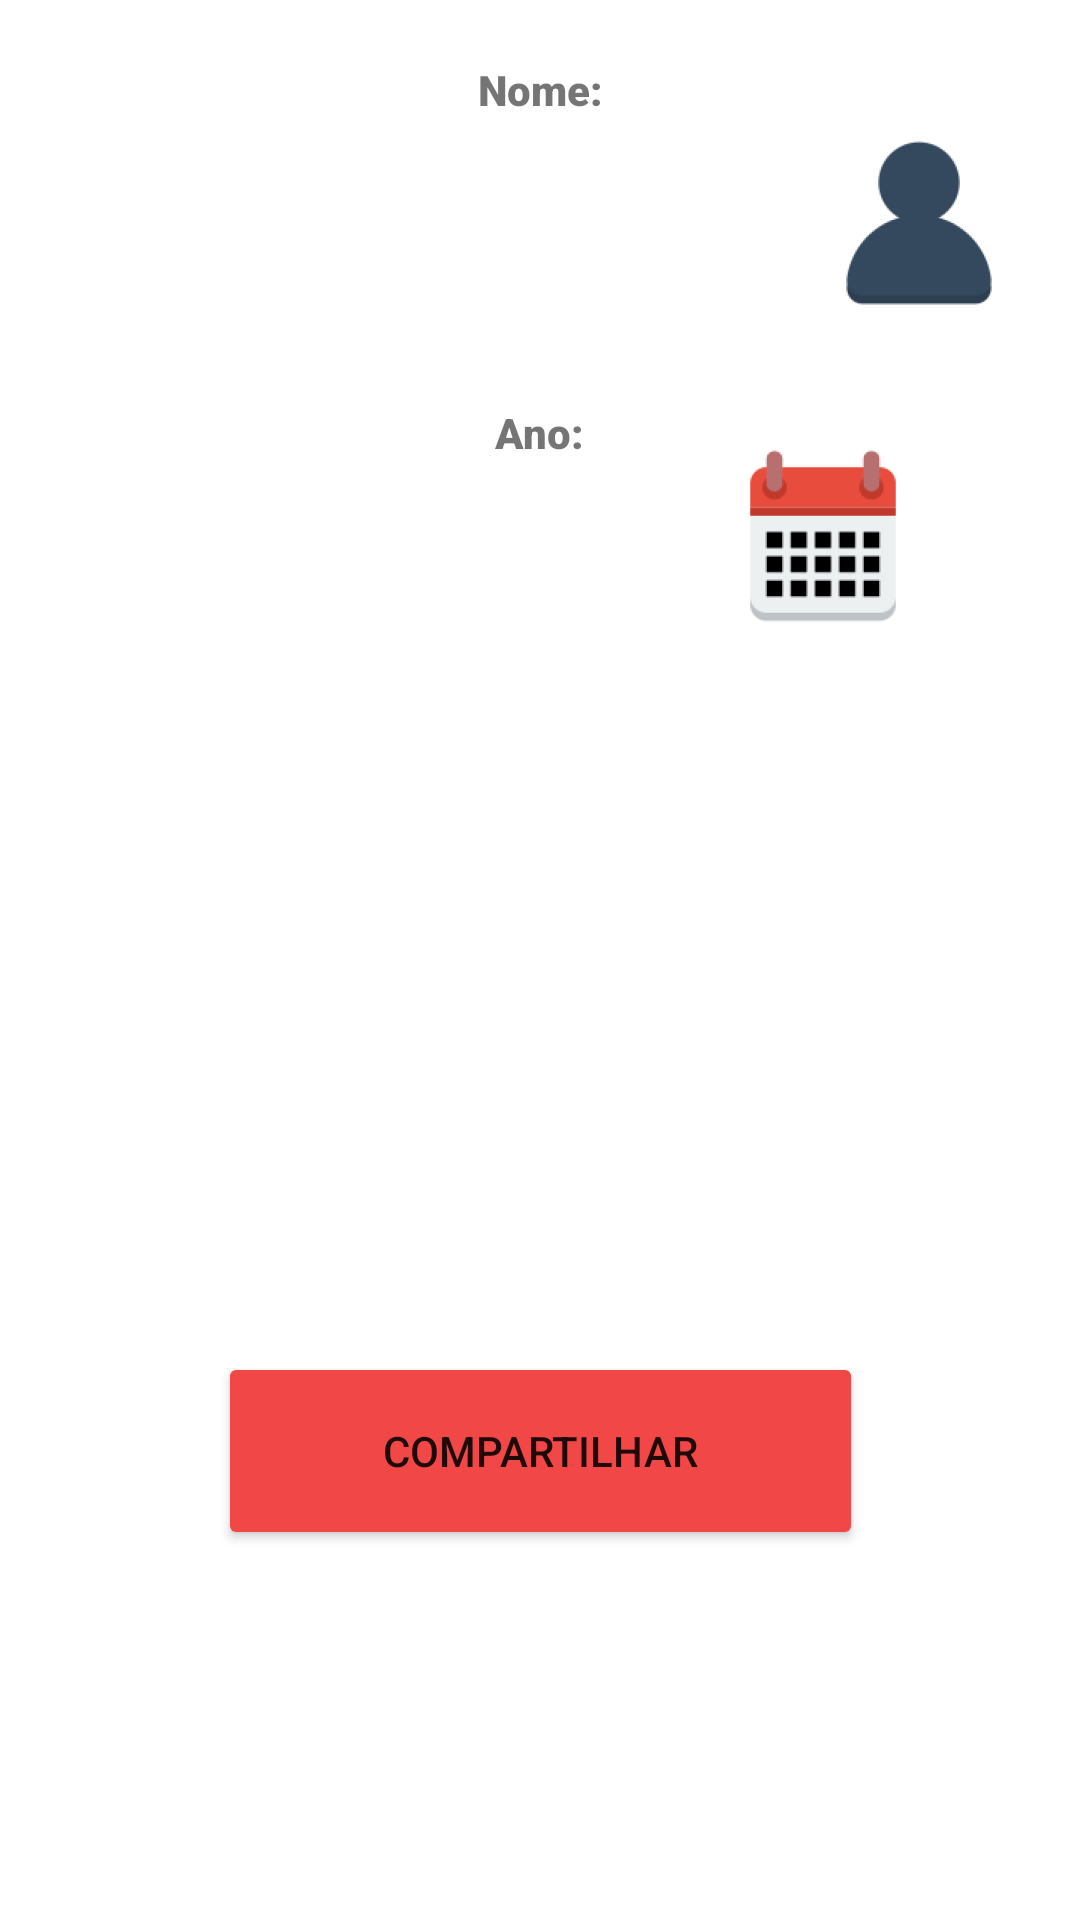

Where to tap for icons on this 1080 x 1920 app screen, as [x,y]:
usuario: [919,223]
